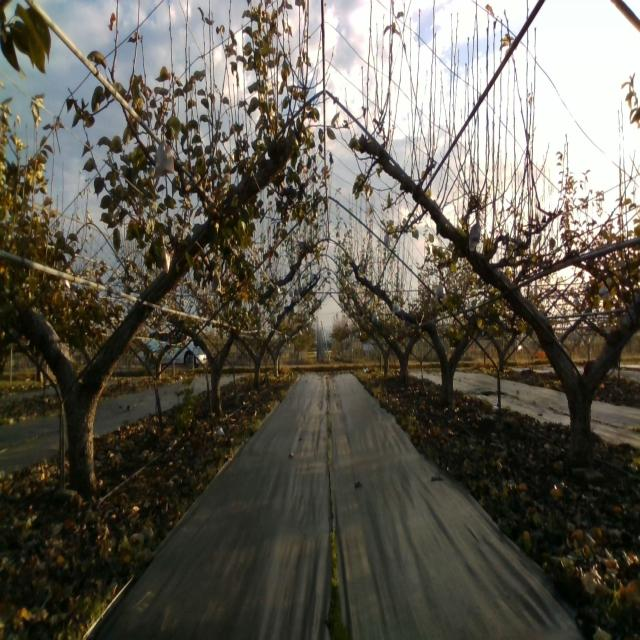pearbags: (153, 133, 174, 179), (158, 235, 171, 276), (468, 218, 481, 252), (434, 284, 447, 308)
